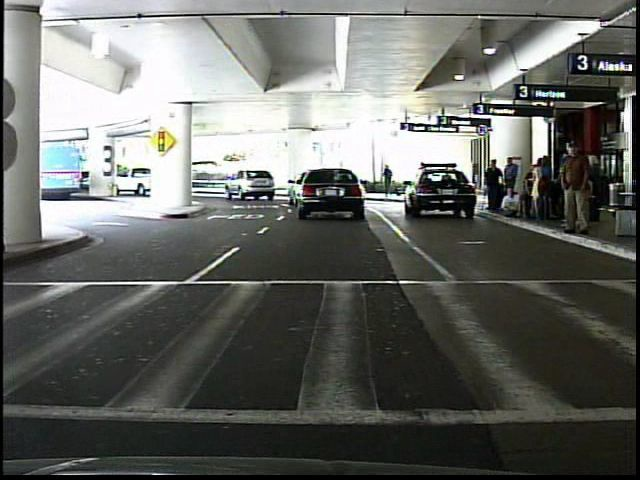person: (557, 139, 596, 240), (481, 159, 504, 216), (381, 164, 395, 198)
